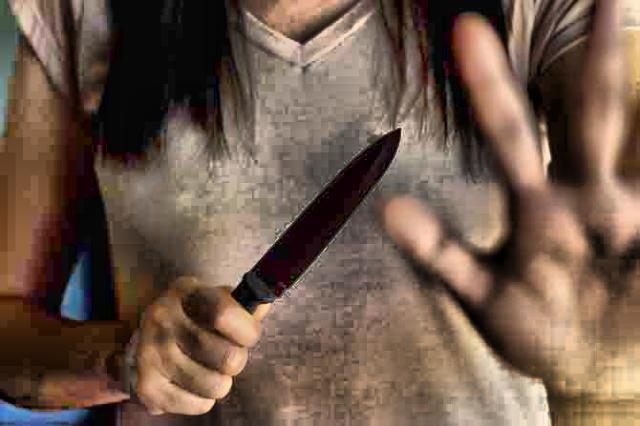knife: (144, 119, 408, 420)
